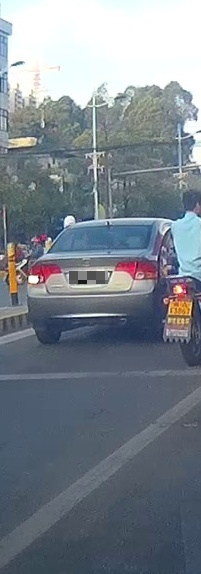L_light: (27, 263, 62, 284)
R_light: (114, 260, 158, 279)
T_light: (102, 222, 114, 227)
day-left: (27, 218, 159, 343)
plate_1: (69, 271, 108, 284)
